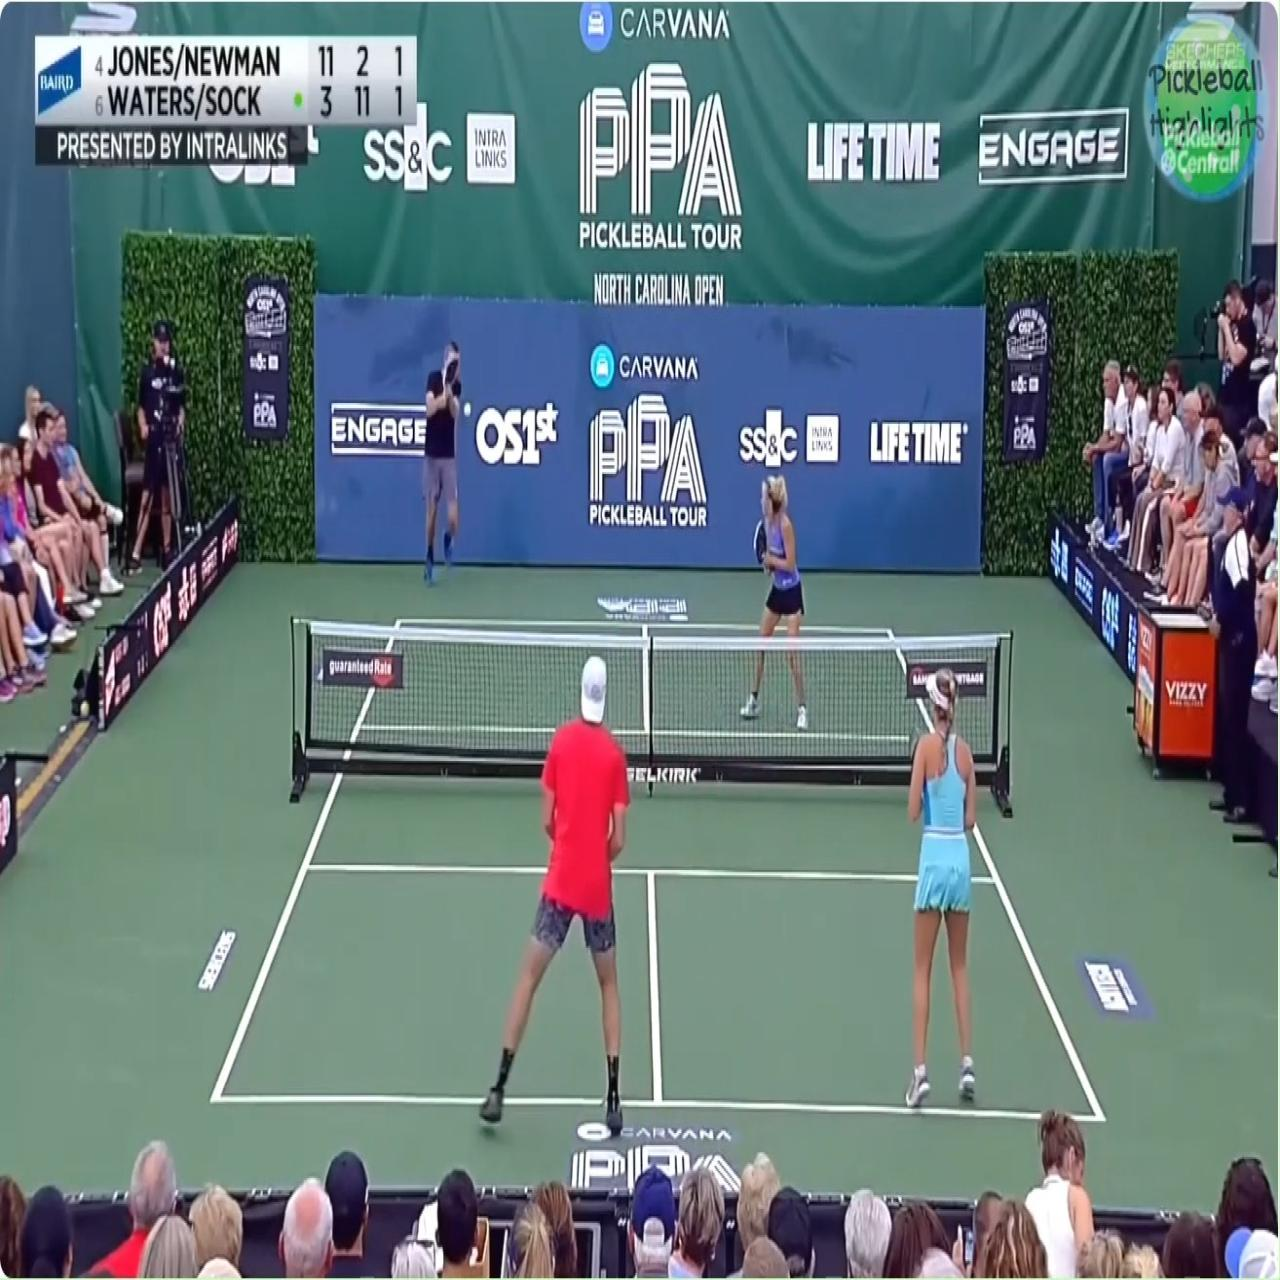pickleball: (463, 401, 471, 417)
